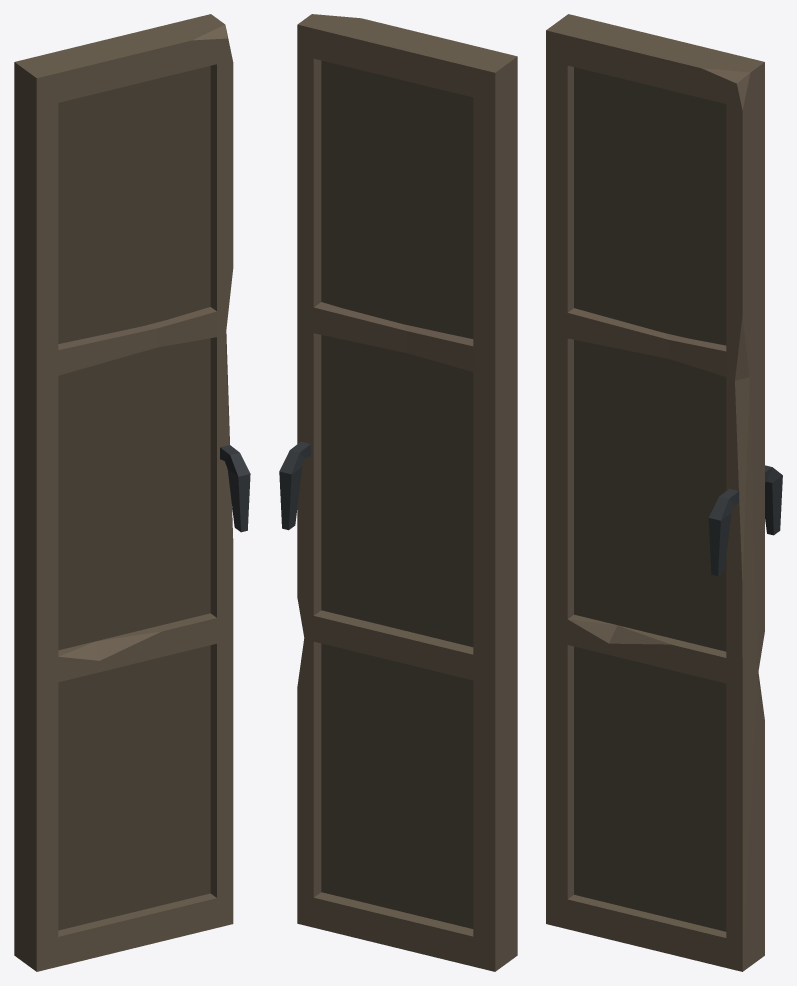
File: SM_Bld_Shop_Door_02_L.fbx
The picture shows the model from 3 angles, left to right: view 1: azimuth 30°, elevation 25°; view 2: azimuth 150°, elevation 25°; view 3: azimuth 330°, elevation 25°; orthographic projection.
Visible parts, largest first — view 1: SM_Bld_Shop_Door_02_L; view 2: SM_Bld_Shop_Door_02_L; view 3: SM_Bld_Shop_Door_02_L.
Boxes of the visible parts, <box> form: SM_Bld_Shop_Door_02_L: <box>14,14,250,971</box>; SM_Bld_Shop_Door_02_L: <box>279,14,517,971</box>; SM_Bld_Shop_Door_02_L: <box>546,14,782,971</box>.
Size of the model in its own units: 51.21 by 222 by 28.05.
